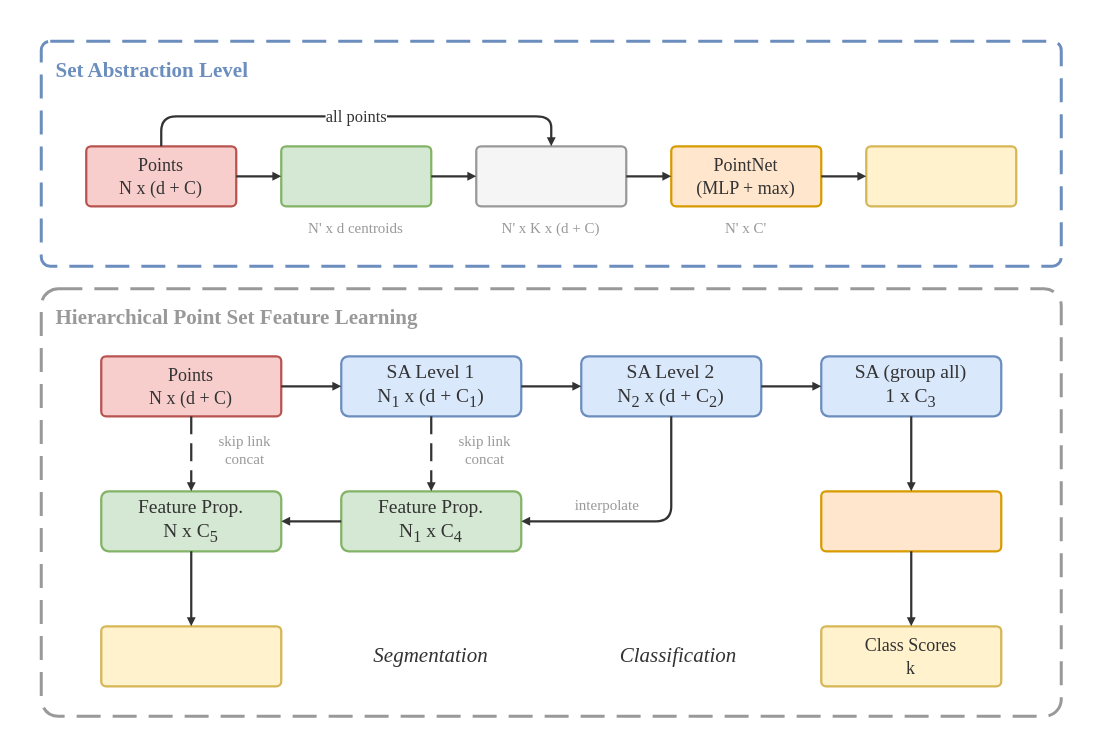
This 1101x756 diagram has some shape labels left out. Each missing label, with the centre of its shape:
"FC Layers (512, 256, k)" goes at pixel 910 520.
"Features N' x (d + C')" goes at pixel 940 175.
"Grouping (ball query)" goes at pixel 550 175.
"Per-point Scores N x m" goes at pixel 190 655.
"Sampling (FPS)" goes at pixel 355 175.
